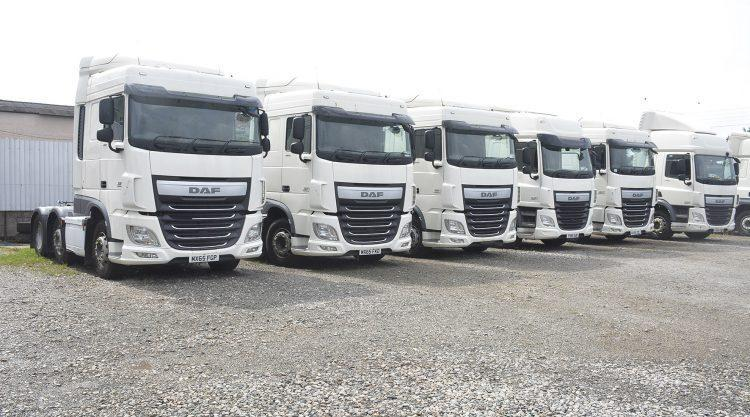truck: (17, 52, 270, 280), (253, 76, 413, 266), (407, 97, 517, 258), (510, 111, 597, 248), (652, 128, 740, 240), (583, 126, 656, 245)
